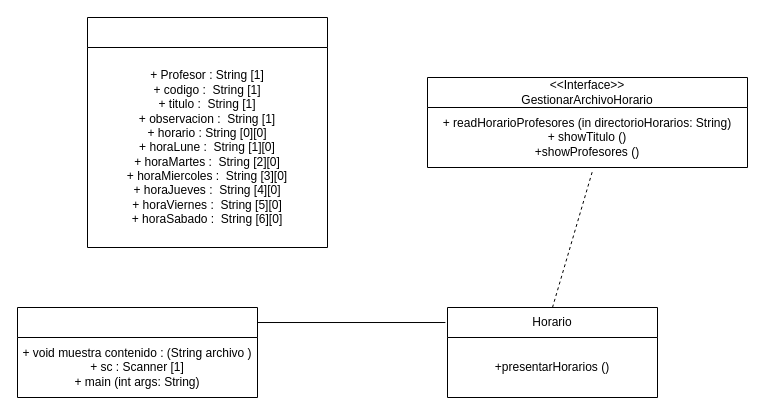
The diagram is 765 pixels wide and 415 high, and some of its shapes have lost their labels. Each missing label, with the box of its shape:
Horario Base: (16, 306, 258, 398)
Horario Formato: (86, 16, 328, 248)
